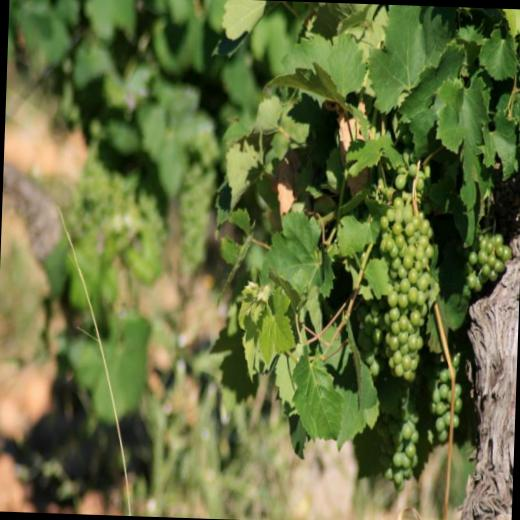Orange: (353, 132, 439, 386), (176, 136, 218, 274), (372, 400, 418, 493), (426, 351, 464, 442), (463, 231, 513, 294)
